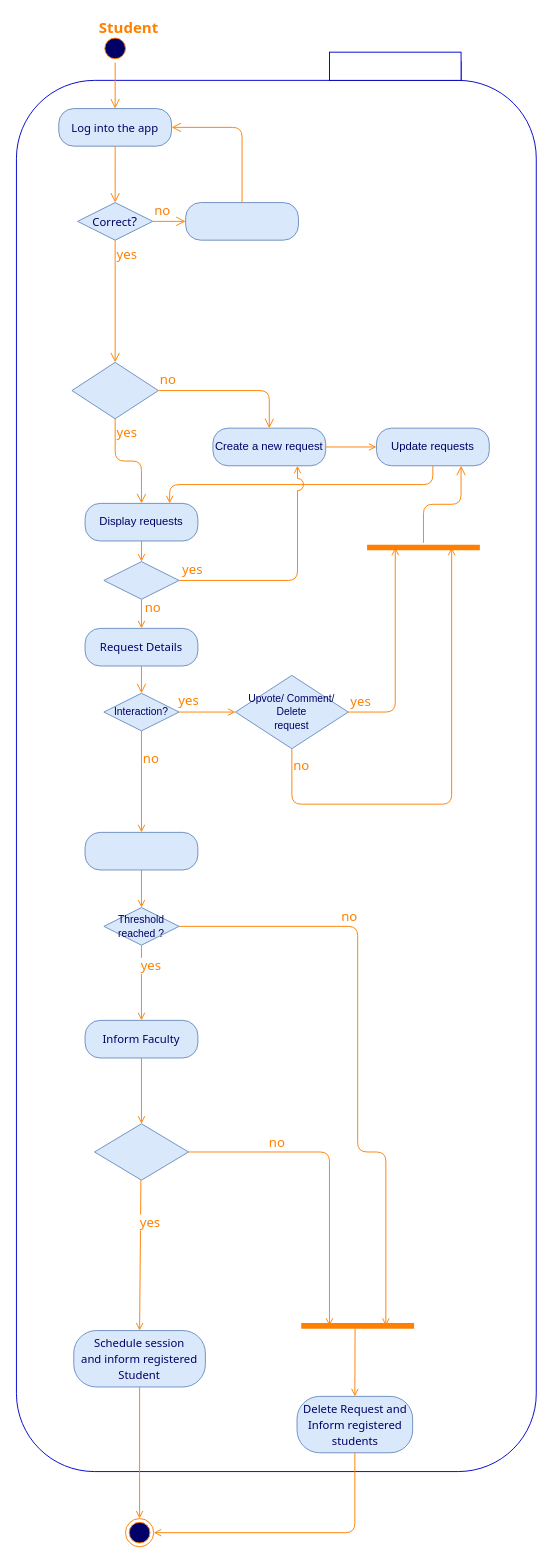
This 553x1563 diagram has some shape labels left out. The box of each missing label's shape, as (x1, y1, x2, y2) in pixels:
Add new habit?: (103, 561, 179, 599)
Display error: (185, 202, 298, 240)
Doubt Solving Session: (329, 51, 461, 80)
Existing requests?: (71, 361, 158, 419)
Faculty Approved request?: (94, 1123, 188, 1180)
Request Status: (84, 831, 198, 870)
